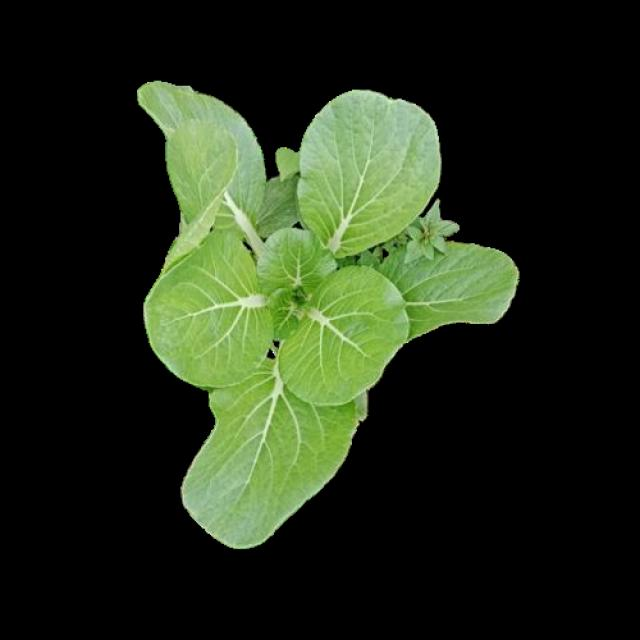healthy: (136, 75, 512, 542)
mature: (138, 78, 515, 545)
